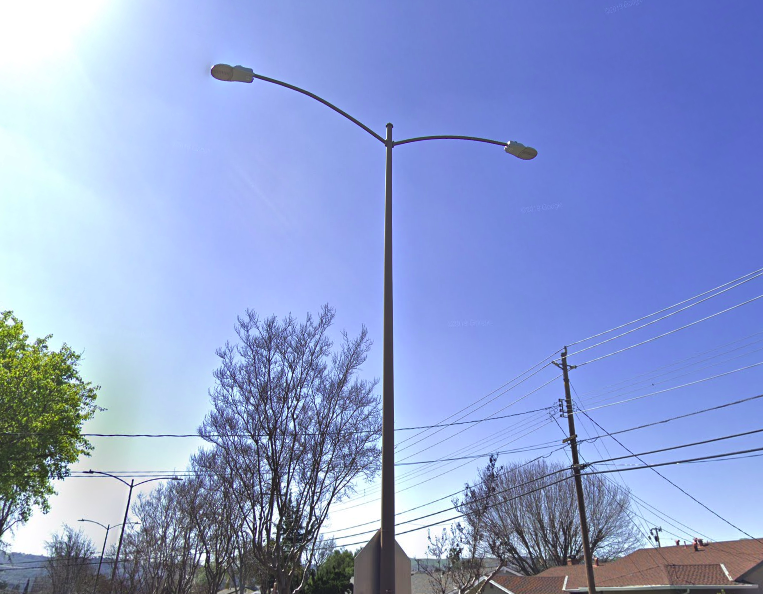pole: (201, 55, 552, 298)
